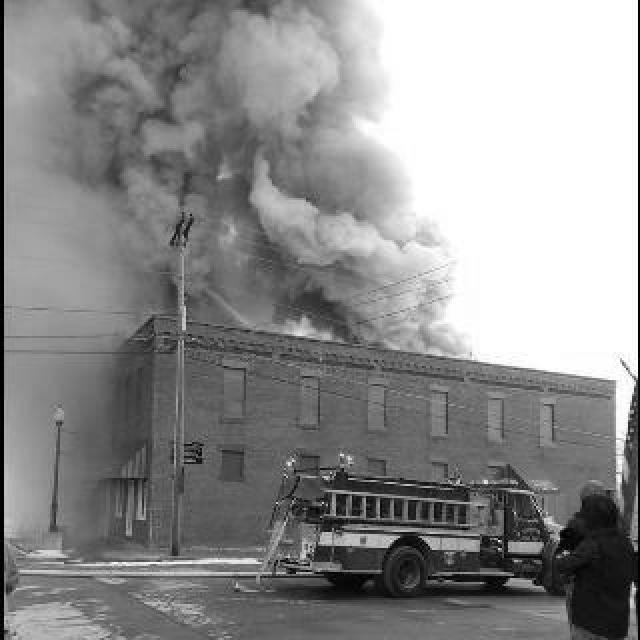Fire: (258, 308, 338, 358)
Smoke: (2, 202, 126, 544), (338, 168, 498, 354)
